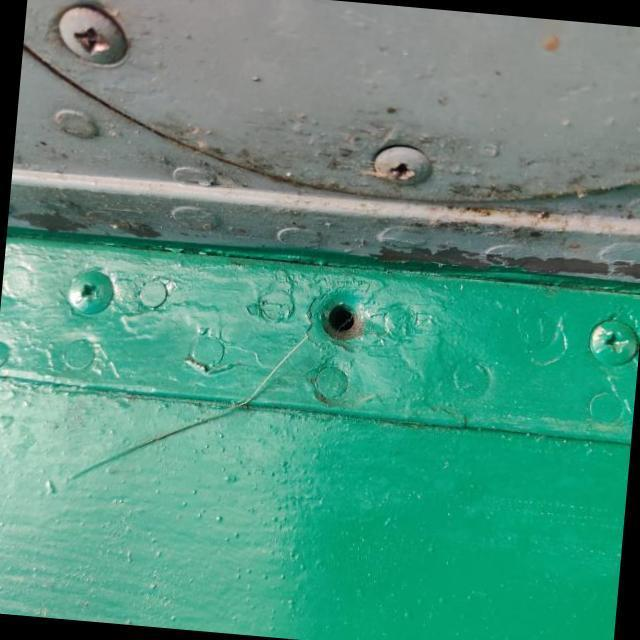Fastener Damage: (285, 270, 399, 362)
